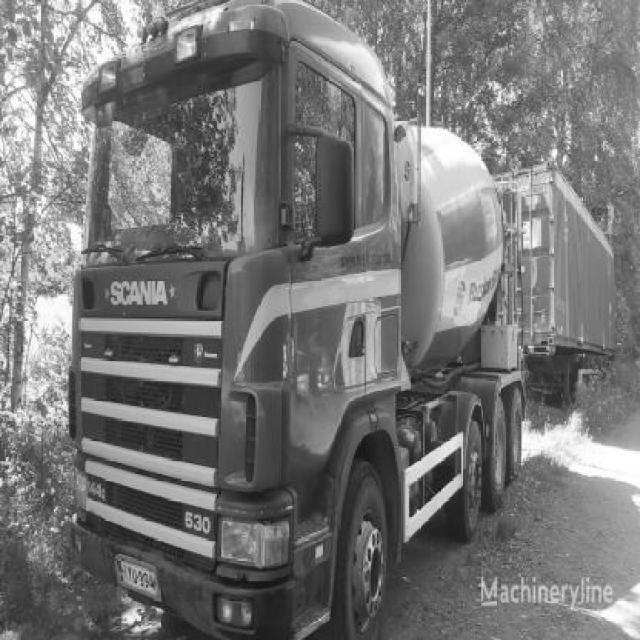Concrete Mixer: (68, 0, 520, 640)
